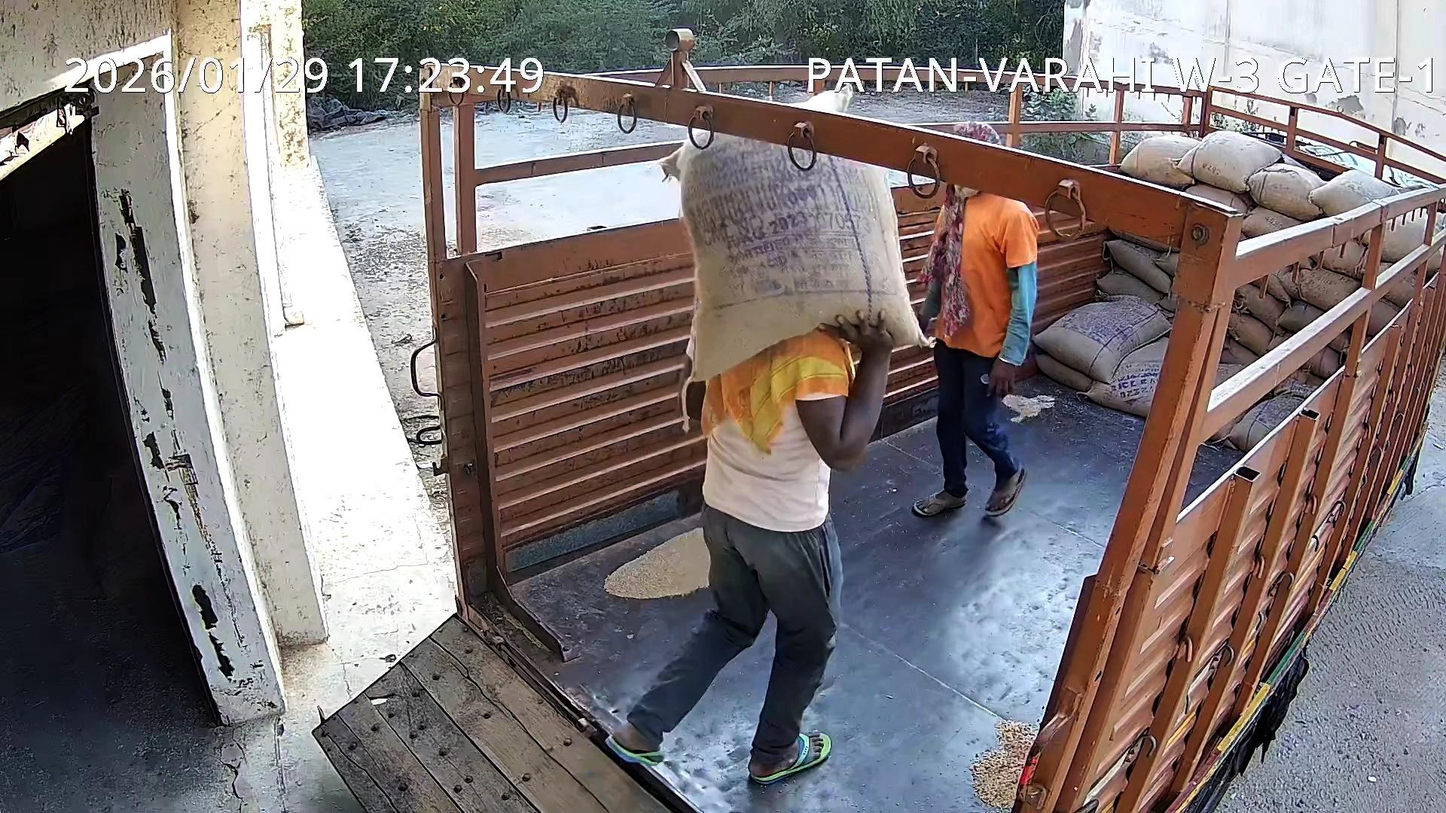Sack: (667, 135, 926, 378)
